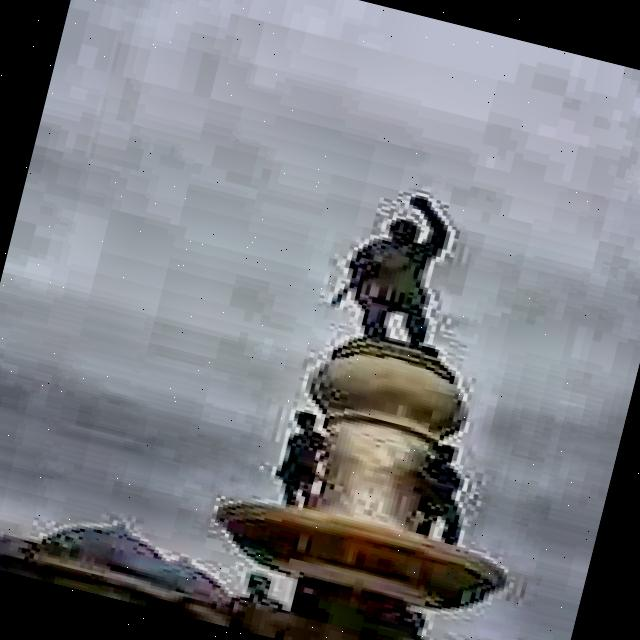Philip II of Macedonia: (188, 156, 565, 640)
